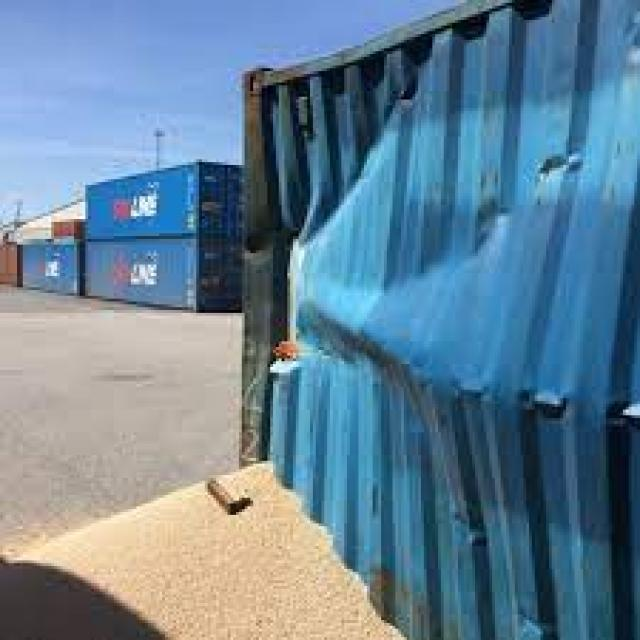Deframe_or_Dent: (328, 89, 570, 582), (232, 62, 313, 482)
